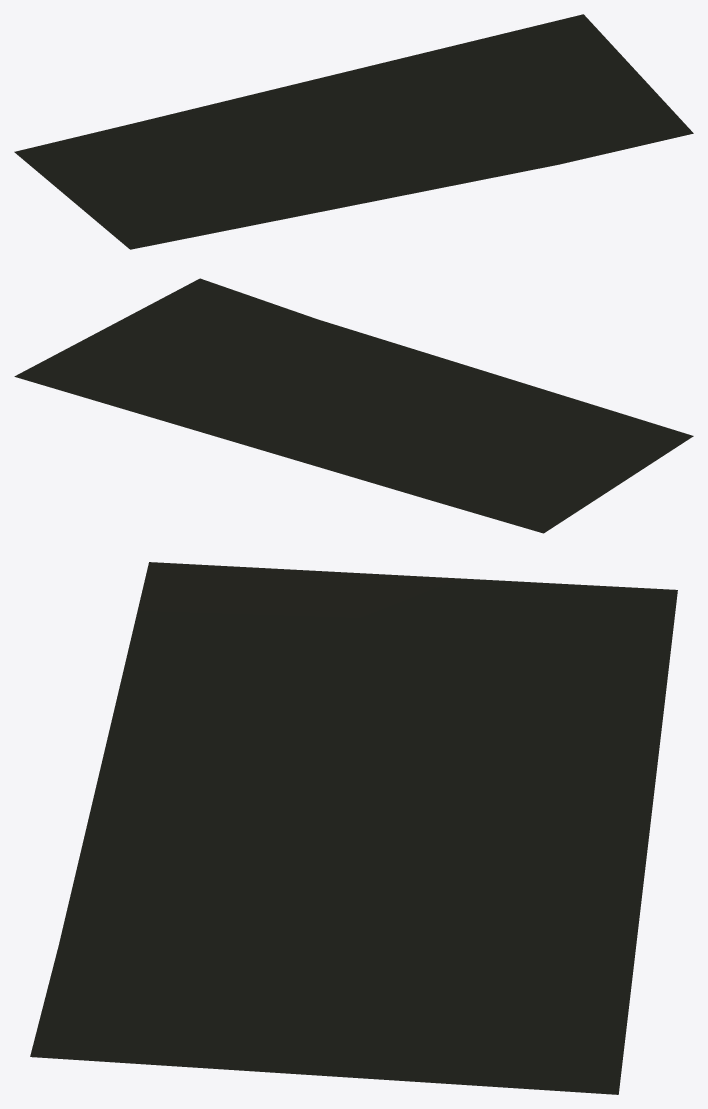
File: OZ_99_sn_sdwbox04B.glb
3 views of the same model, one above another, from view 1: azimuth 30°, elevation 25°; view 2: azimuth 150°, elevation 25°; view 3: azimuth 270°, elevation 25° (orthographic). The views are drawn at different scales.
Visible parts, largest first — view 1: OM_99_sn_sdwbox04B; view 2: OM_99_sn_sdwbox04B; view 3: OM_99_sn_sdwbox04B.
Boxes of the visible parts, x1,y1,x2,y2 form: OM_99_sn_sdwbox04B: (14, 14, 693, 249); OM_99_sn_sdwbox04B: (14, 278, 693, 533); OM_99_sn_sdwbox04B: (30, 562, 677, 1094).
Bounding box in the file's own units: 1.59 × 0.0357 × 0.7923.
1 material, 1 textured.
